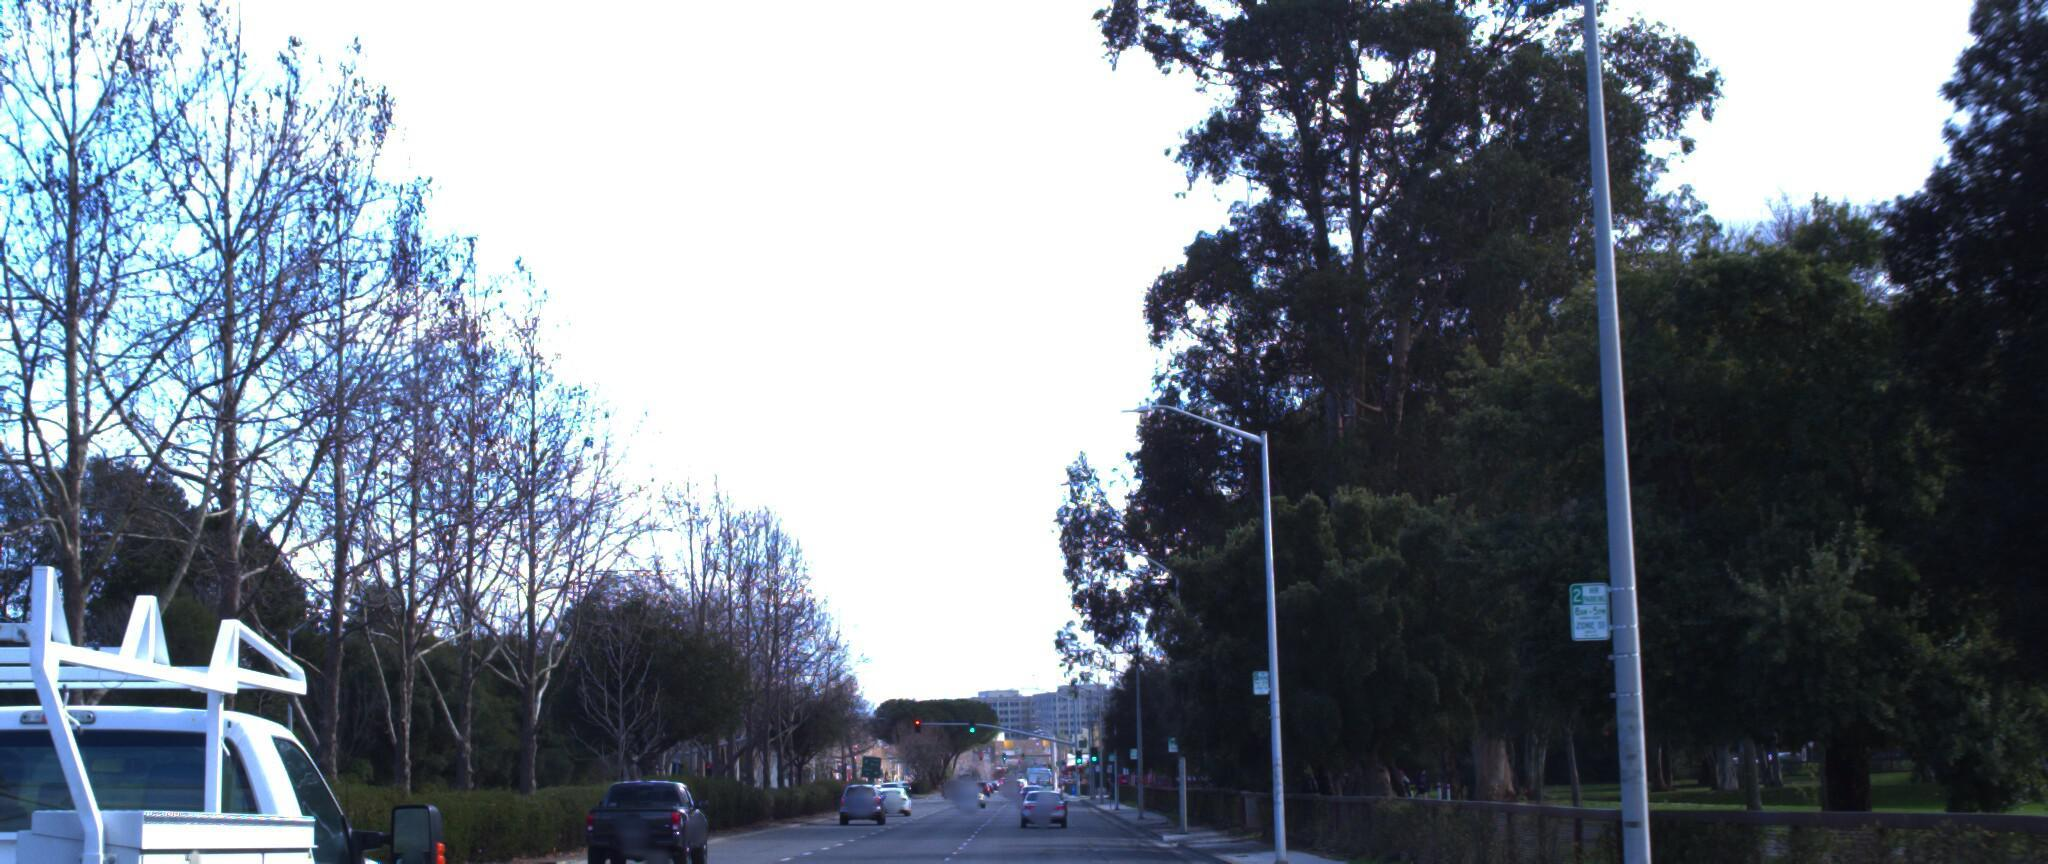car: (0, 523, 455, 864), (585, 771, 716, 864)
